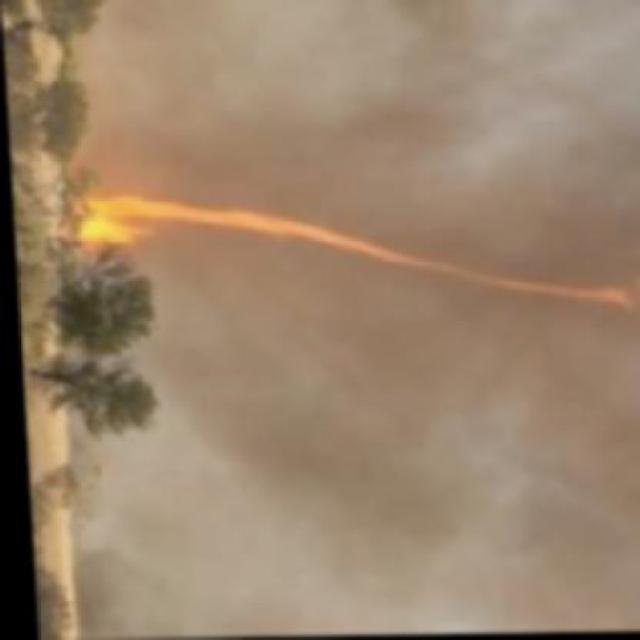fire: (54, 167, 637, 333)
